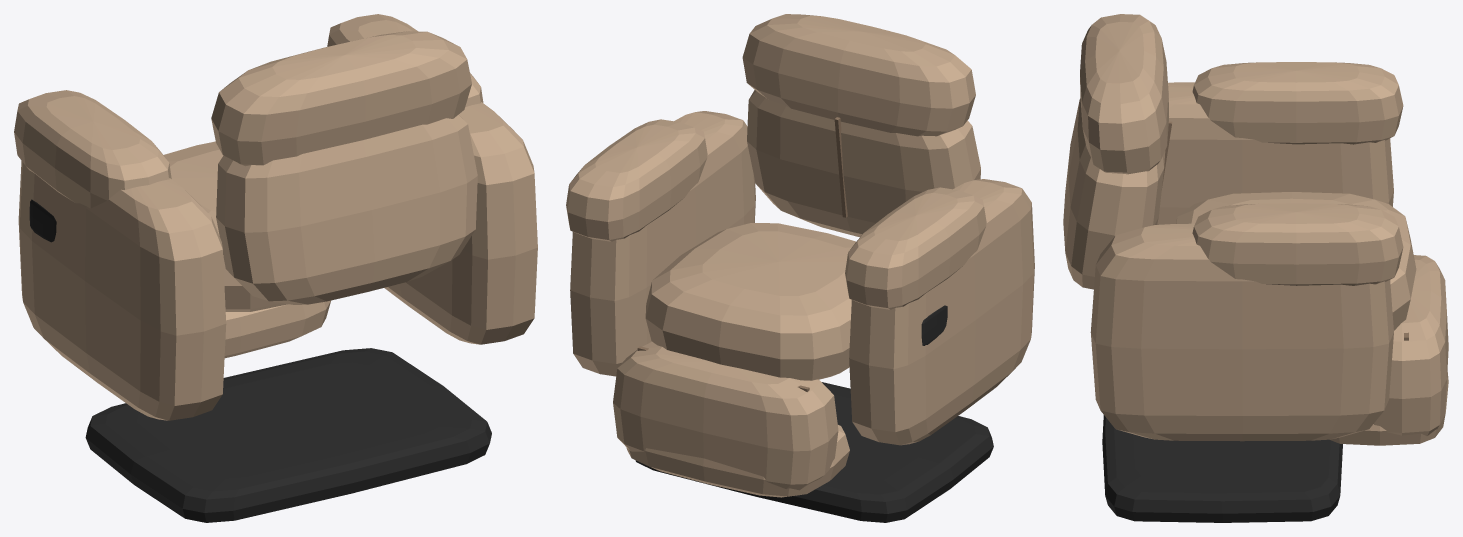
Rendered from drake-recliner.glb.
3 views of the same model, side by side, from view 1: azimuth 30°, elevation 25°; view 2: azimuth 150°, elevation 25°; view 3: azimuth 270°, elevation 25° (orthographic). The views are drawn at different scales.
Parts seen in each view (by area): view 1: recliner_back, lower_base.001, arm_body_-1.001, arm_body_1.001, arm_top_-1.001, seat_1.001, footrest, arm_top_1.001, control_panel; view 2: recliner_back, arm_body_-1.001, seat_1.001, front_drop_1.001, arm_body_1.001, lower_base.001, arm_top_-1.001, arm_top_1.001, footrest, control_panel, back_seam_1.001; view 3: arm_body_1.001, recliner_back, lower_base.001, arm_body_-1.001, arm_top_1.001, arm_top_-1.001, front_drop_1.001, seat_1.001, footrest.
Boxes of the visible parts, x1,y1,x2,y2 form: recliner_back: [211, 31, 477, 304]; lower_base.001: [85, 348, 491, 522]; arm_body_-1.001: [18, 161, 226, 420]; arm_body_1.001: [384, 102, 537, 344]; arm_top_-1.001: [14, 90, 171, 208]; seat_1.001: [163, 141, 287, 311]; footrest: [224, 300, 330, 358]; arm_top_1.001: [327, 14, 483, 106]; control_panel: [29, 199, 56, 242]; recliner_back: [742, 14, 980, 237]; arm_body_-1.001: [849, 179, 1034, 445]; seat_1.001: [645, 223, 855, 380]; front_drop_1.001: [613, 341, 838, 490]; arm_body_1.001: [570, 111, 755, 376]; lower_base.001: [635, 382, 993, 522]; arm_top_-1.001: [845, 187, 986, 309]; arm_top_1.001: [566, 119, 707, 241]; footrest: [626, 425, 849, 497]; control_panel: [921, 305, 947, 345]; back_seam_1.001: [834, 117, 847, 217]; arm_body_1.001: [1090, 223, 1393, 441]; recliner_back: [1063, 14, 1168, 289]; lower_base.001: [1102, 415, 1342, 522]; arm_body_-1.001: [1157, 82, 1393, 224]; arm_top_1.001: [1192, 203, 1403, 285]; arm_top_-1.001: [1192, 62, 1403, 144]; front_drop_1.001: [1374, 255, 1448, 435]; seat_1.001: [1176, 192, 1416, 330]; footrest: [1330, 371, 1448, 445].
Bounding box in the file's own units: 0.983 × 1.06 × 0.908.
